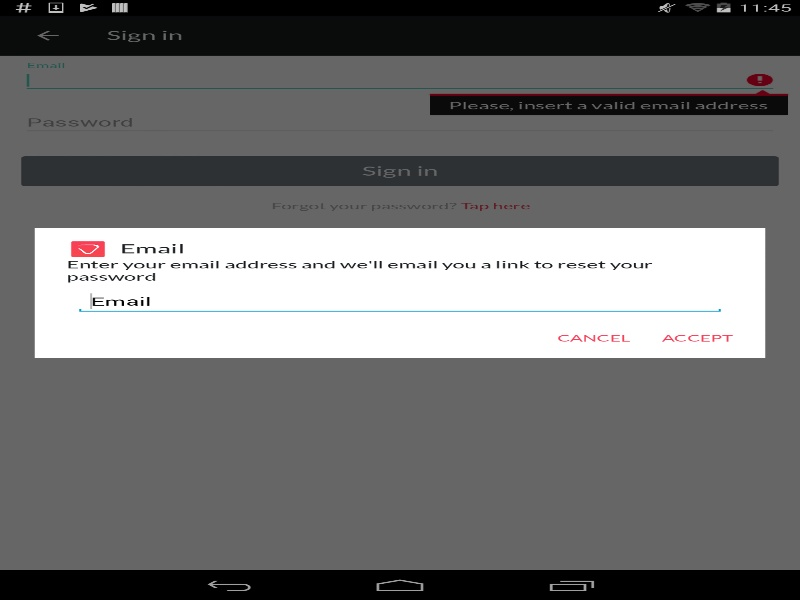Button: (540, 321, 646, 355), (646, 321, 749, 355)
Input: (74, 289, 725, 313)
